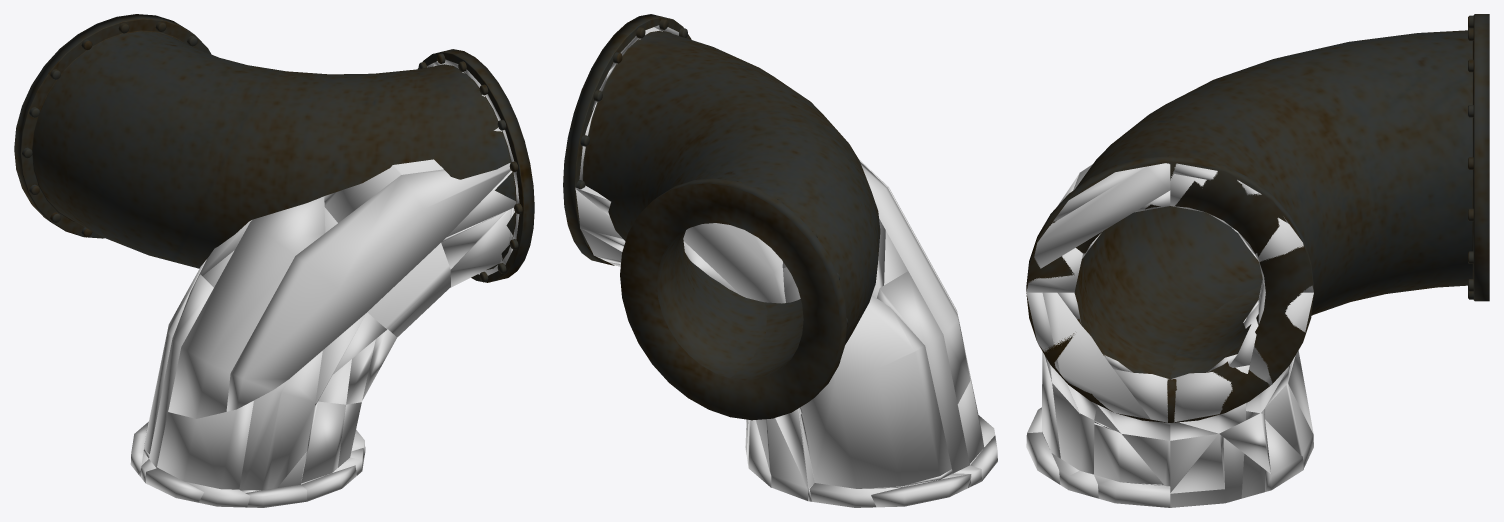
The model's file is SM_Pipes_XLarge_Elbow.fbx.
The picture shows the model from 3 angles, left to right: view 1: azimuth 30°, elevation 25°; view 2: azimuth 150°, elevation 25°; view 3: azimuth 270°, elevation 25°; orthographic projection. The views are drawn at different scales.
Parts seen in each view (by area): view 1: SM_Pipes_XLarge_Elbow, SM_Pipes_XLarge_Elbow_ConvexHulls; view 2: SM_Pipes_XLarge_Elbow, SM_Pipes_XLarge_Elbow_ConvexHulls; view 3: SM_Pipes_XLarge_Elbow, SM_Pipes_XLarge_Elbow_ConvexHulls.
Boxes of the visible parts, x1,y1,x2,y2 form: SM_Pipes_XLarge_Elbow: (14,14,534,282); SM_Pipes_XLarge_Elbow_ConvexHulls: (130,59,519,507); SM_Pipes_XLarge_Elbow: (563,14,880,420); SM_Pipes_XLarge_Elbow_ConvexHulls: (575,25,997,507); SM_Pipes_XLarge_Elbow: (1026,14,1489,422); SM_Pipes_XLarge_Elbow_ConvexHulls: (1026,163,1313,507).
Bounding box in the file's own units: 2.9 × 2.9 × 2.9.
